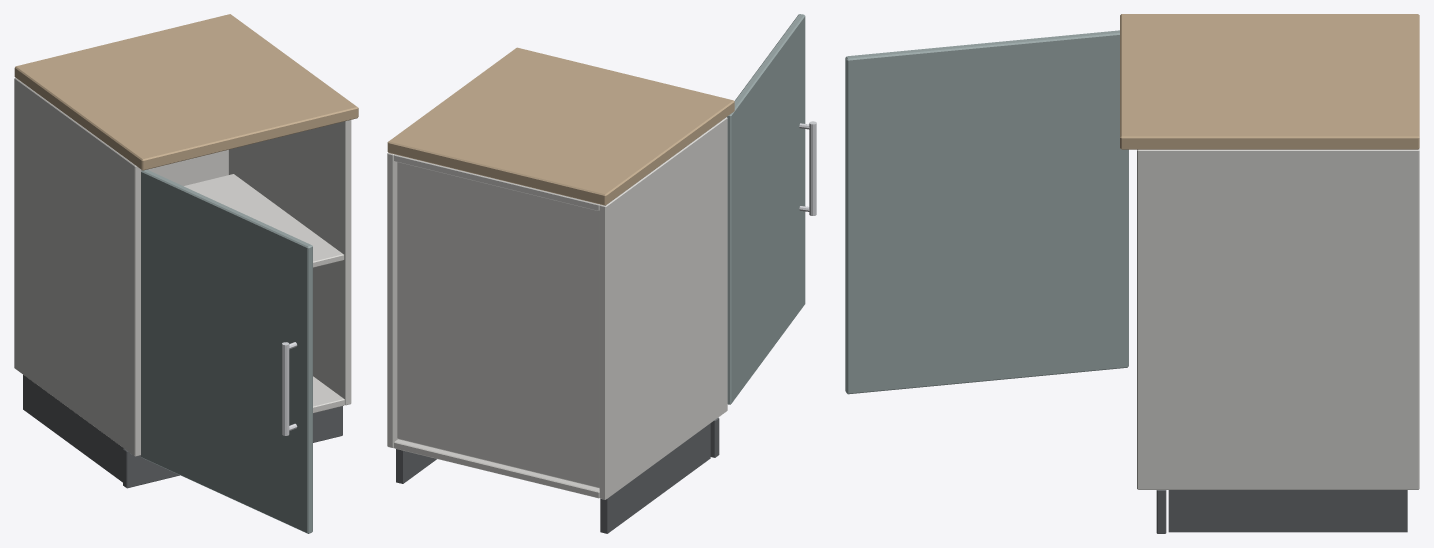
File: fitted-kitchen-and-bathroom-builder-base-600-door-open-43c9c156__17925.glb
The picture shows the model from 3 angles, left to right: view 1: azimuth 30°, elevation 25°; view 2: azimuth 150°, elevation 25°; view 3: azimuth 270°, elevation 25°; orthographic projection. The views are drawn at different scales.
Parts seen in each view (by area): view 1: base-600-door-open, door-left (×2); view 2: base-600-door-open, door-left (×2); view 3: base-600-door-open, door-left.
Part boxes in pixels (left/top/right/bottom): base-600-door-open: left=14, top=14, right=358, bottom=488; door-left (×2): left=141, top=169, right=312, bottom=533; base-600-door-open: left=387, top=47, right=734, bottom=533; door-left (×2): left=727, top=14, right=816, bottom=404; base-600-door-open: left=1120, top=14, right=1419, bottom=533; door-left: left=845, top=30, right=1128, bottom=394.
Size of the model in its own units: 0.6001 by 0.9 by 1.18.
